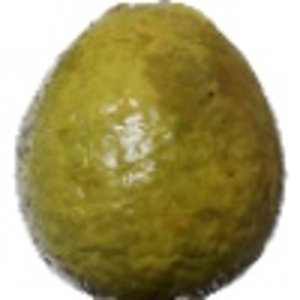goiaba: (8, 1, 288, 296)
